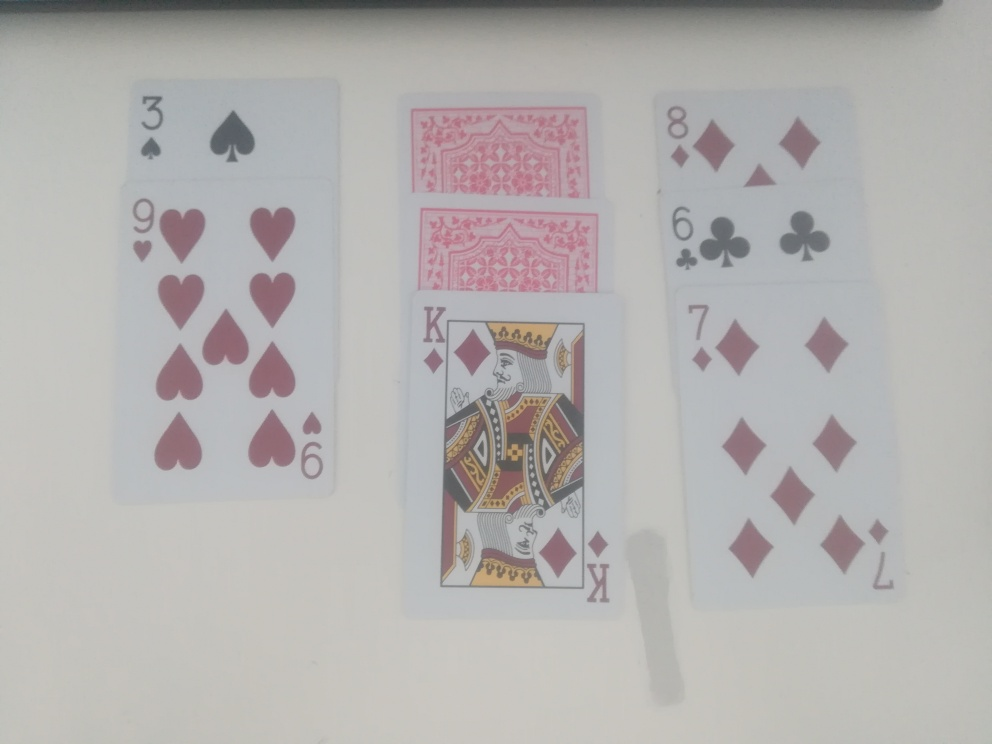3S: (139, 91, 166, 169)
6C: (668, 206, 700, 281)
7D: (685, 302, 718, 378)
8D: (664, 104, 696, 174)
9H: (126, 191, 158, 271)
BACK: (416, 208, 611, 298), (408, 107, 594, 199)
KD: (418, 300, 451, 381)
